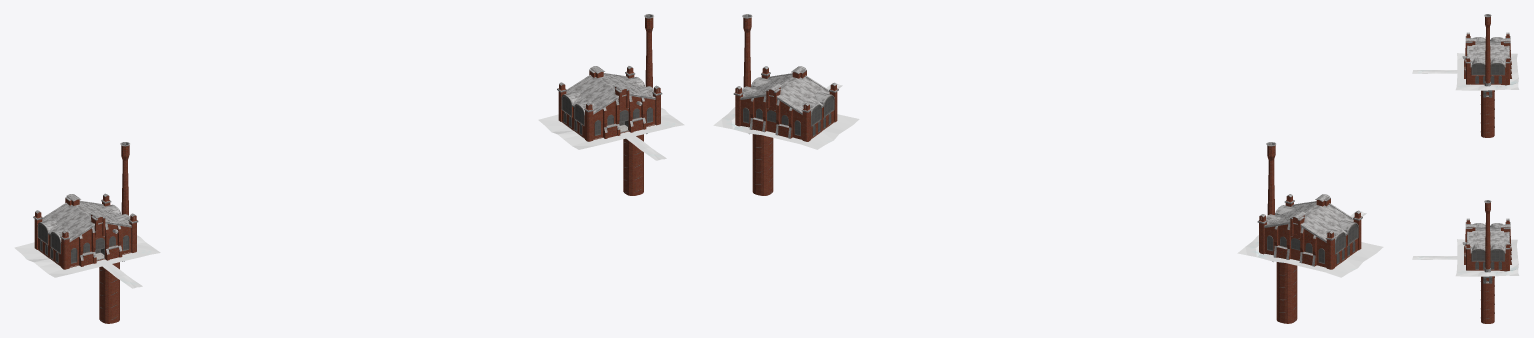
Rendered from Winter1880.glb.
The picture shows the model from 3 angles, left to right: view 1: azimuth 30°, elevation 25°; view 2: azimuth 150°, elevation 25°; view 3: azimuth 270°, elevation 25°; orthographic projection. The views are drawn at different scales.
Visible parts, largest first — view 1: DecorRoof, DecorRoof.001, StaticSnow.001, StaticSnow, DecorStairway, DecorStairway.001, DecorWall.001, StaticWall.005, StaticWall.002, StaticWall.006, DecorWall.002, StaticWall.001 (+2 smaller); view 2: StaticWall.004, StaticWall, DecorRoof, DecorRoof.001, StaticSnow.001, StaticSnow, DecorStairway.001, DecorStairway, DecorWall.001, DecorWall.002, StaticChimney.001, StaticChimney; view 3: StaticSnow.001, StaticSnow, DecorRoof.001, DecorRoof, DecorWall.004, DecorWall.003, DecorStairway.001, DecorStairway, StaticChimney.001, StaticChimney, StaticColumn.007, StaticColumn.003 (+4 smaller).
Part boxes in pixels (x1,y1,x2,y2): DecorRoof: [42, 194, 131, 242]; DecorRoof.001: [561, 66, 655, 114]; StaticSnow.001: [538, 107, 684, 160]; StaticSnow: [14, 235, 160, 288]; DecorStairway: [99, 262, 119, 323]; DecorStairway.001: [623, 134, 643, 195]; DecorWall.001: [37, 219, 69, 265]; StaticWall.005: [628, 96, 655, 132]; StaticWall.002: [69, 227, 96, 266]; StaticWall.006: [593, 99, 620, 139]; DecorWall.002: [561, 92, 593, 137]; StaticWall.001: [105, 223, 131, 260]; StaticWall.004: [740, 96, 802, 139]; StaticWall: [1264, 224, 1326, 267]; DecorRoof: [1264, 194, 1358, 242]; DecorRoof.001: [740, 66, 834, 114]; StaticSnow.001: [713, 83, 859, 149]; StaticSnow: [1237, 210, 1383, 277]; DecorStairway.001: [752, 134, 773, 195]; DecorStairway: [1276, 262, 1297, 323]; DecorWall.001: [1326, 220, 1358, 266]; DecorWall.002: [802, 92, 834, 138]; StaticChimney.001: [742, 14, 752, 87]; StaticChimney: [1266, 142, 1275, 215]; StaticSnow.001: [1412, 239, 1519, 276]; StaticSnow: [1412, 53, 1519, 90]; DecorRoof.001: [1465, 224, 1510, 253]; DecorRoof: [1465, 38, 1510, 67]; DecorWall.004: [1470, 244, 1505, 270]; DecorWall.003: [1470, 58, 1505, 84]; DecorStairway.001: [1481, 276, 1494, 323]; DecorStairway: [1481, 90, 1494, 137]; StaticChimney.001: [1484, 200, 1491, 272]; StaticChimney: [1484, 14, 1491, 86]; StaticColumn.007: [1505, 243, 1510, 271]; StaticColumn.003: [1505, 57, 1510, 85].
Size of what is drawn, in the model's own units: 602 by 157 by 122.
7 materials, 7 textured.
